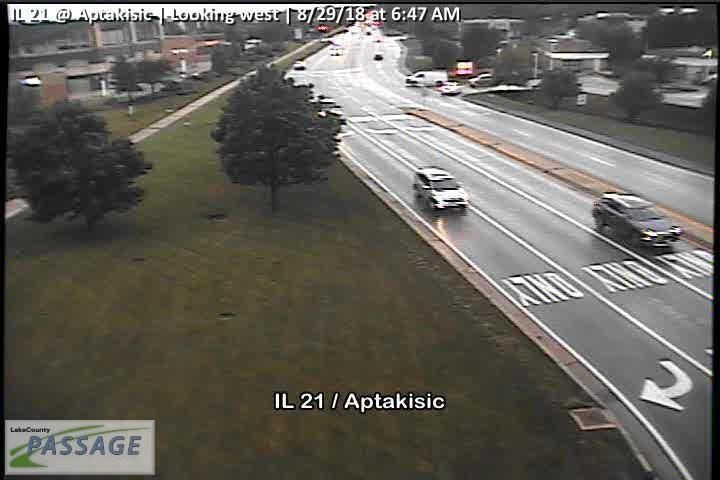SUV: (592, 192, 682, 249), (414, 166, 468, 211), (405, 70, 447, 87), (468, 73, 499, 88)
Sedan: (440, 81, 463, 95)
